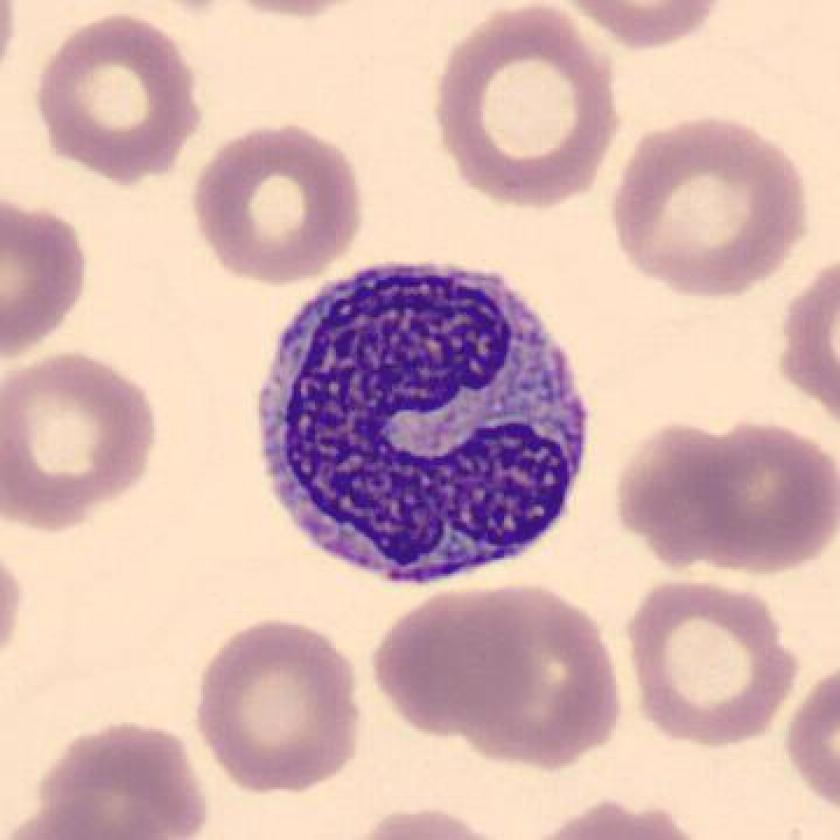monocyte: (241, 244, 608, 596)
